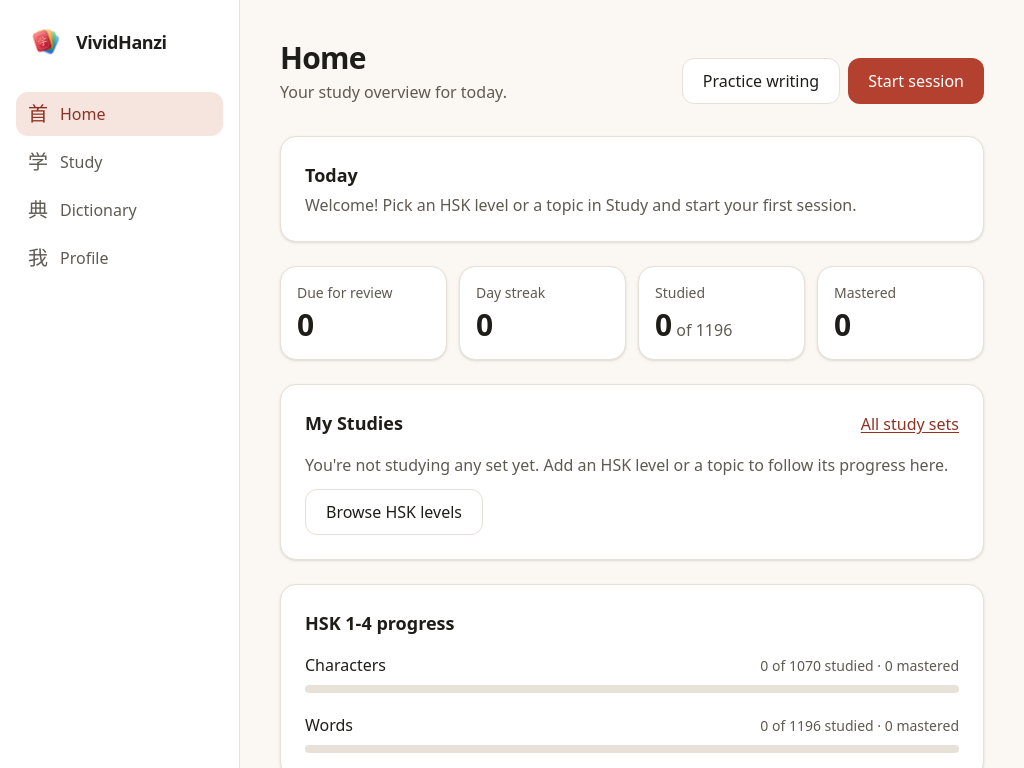
Test case: AppRoutes › navigates to another section when a link is clicked and marks it as current
The image size is (1024, 768).
What coordinates should you click on to do the following:
click the link "学 Study"
I would click on:
 (65, 162)
Its box is left=28, top=151, right=102, bottom=173.
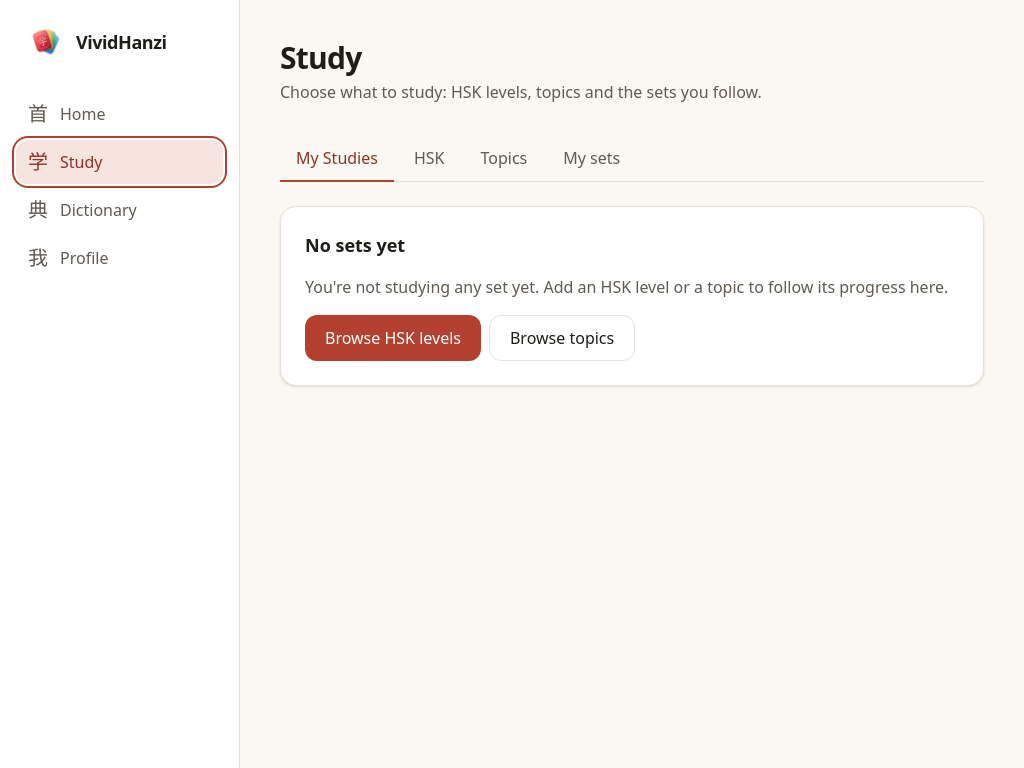
Result: the heading "Study" is shown at left=280, top=37, right=362, bottom=78
